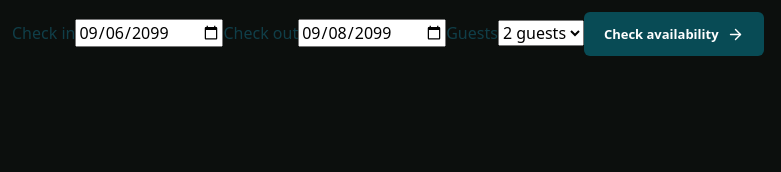
Test: Booking search › moves checkout to the next calendar day when check-in moves forward
The image size is (781, 172).
Type "2099-09-30" into the date field labelled "Check in" at (149, 33), box x1=75 y1=19 x2=223 y2=47
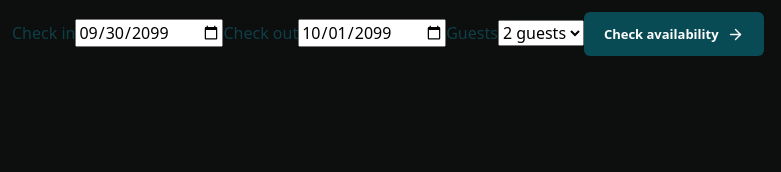
expect the date field labelled "Check out" holds "2099-10-01": met, box x1=298 y1=19 x2=446 y2=47
